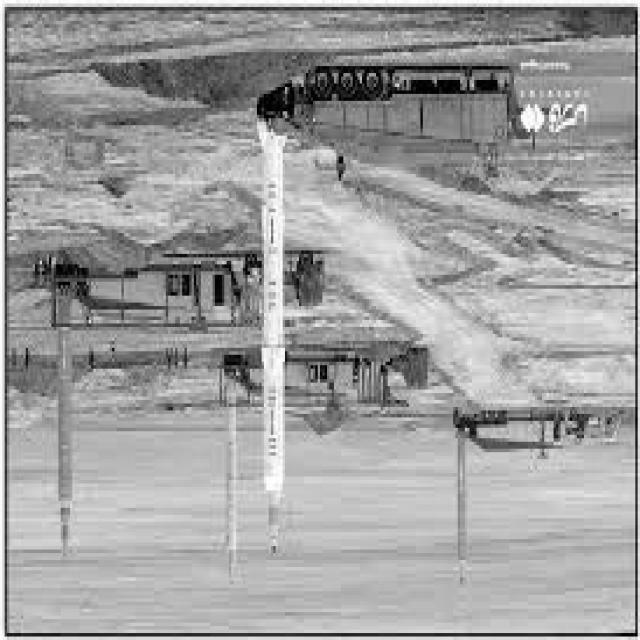Missile: (256, 115, 292, 558)
